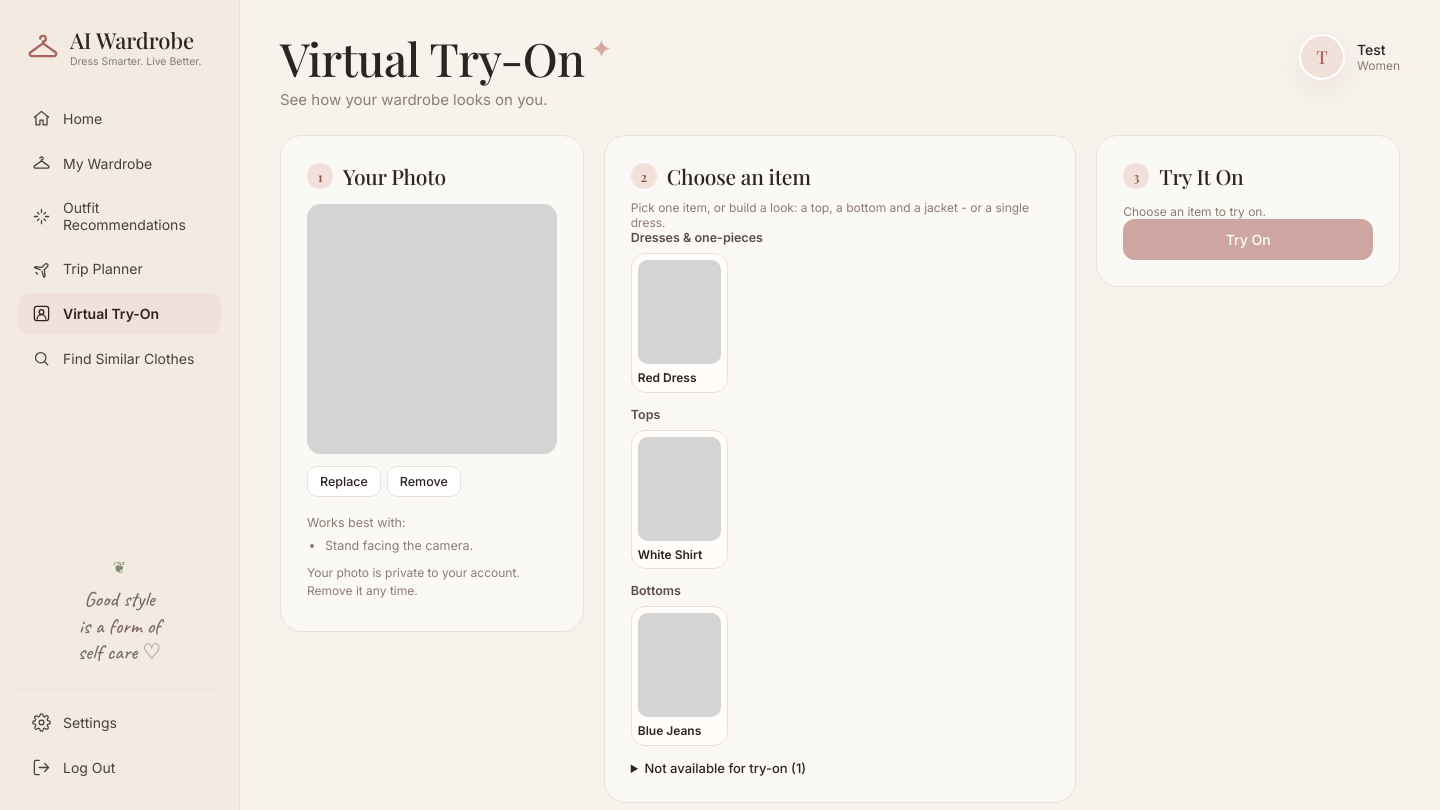
Test case: a failed generation shows an understandable error and stops polling
Click the button "White Shirt" at (679, 500), box [631,430,728,569]
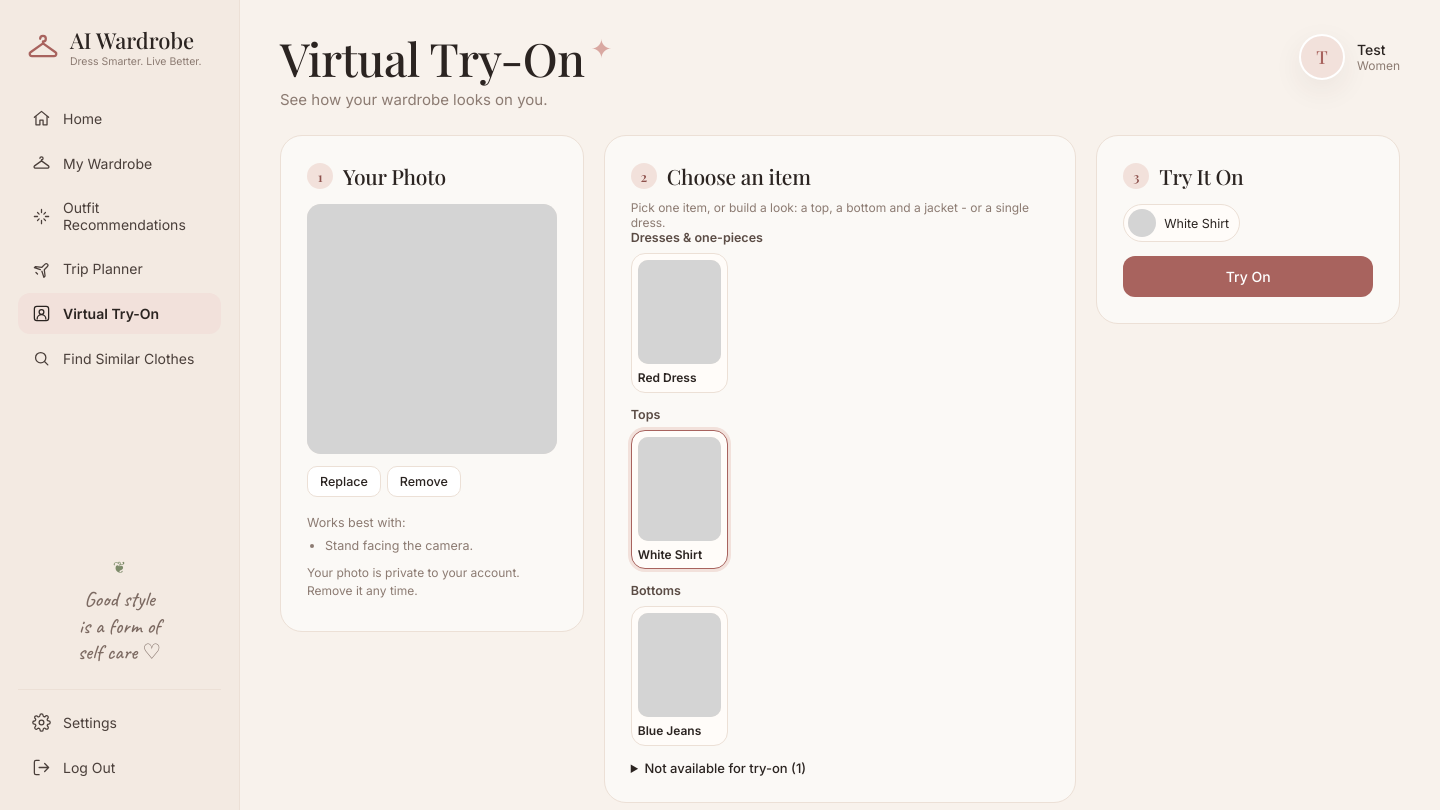
Click the button "Try On" at (1248, 277), box [1123,256,1373,297]
Wait 22100 ms
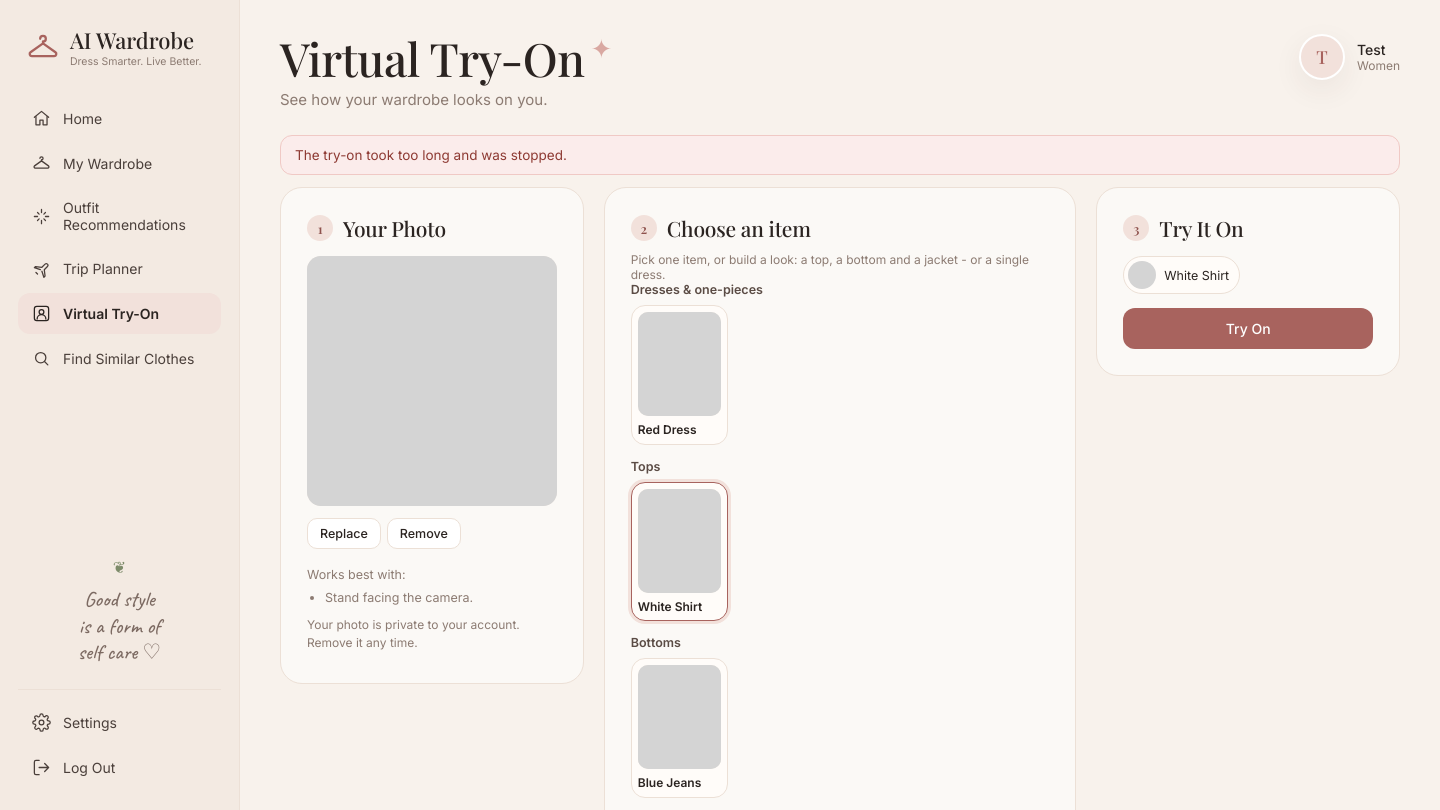
Now the message reads "The try-on took too long and was stopped.", box [295,147,567,163]
